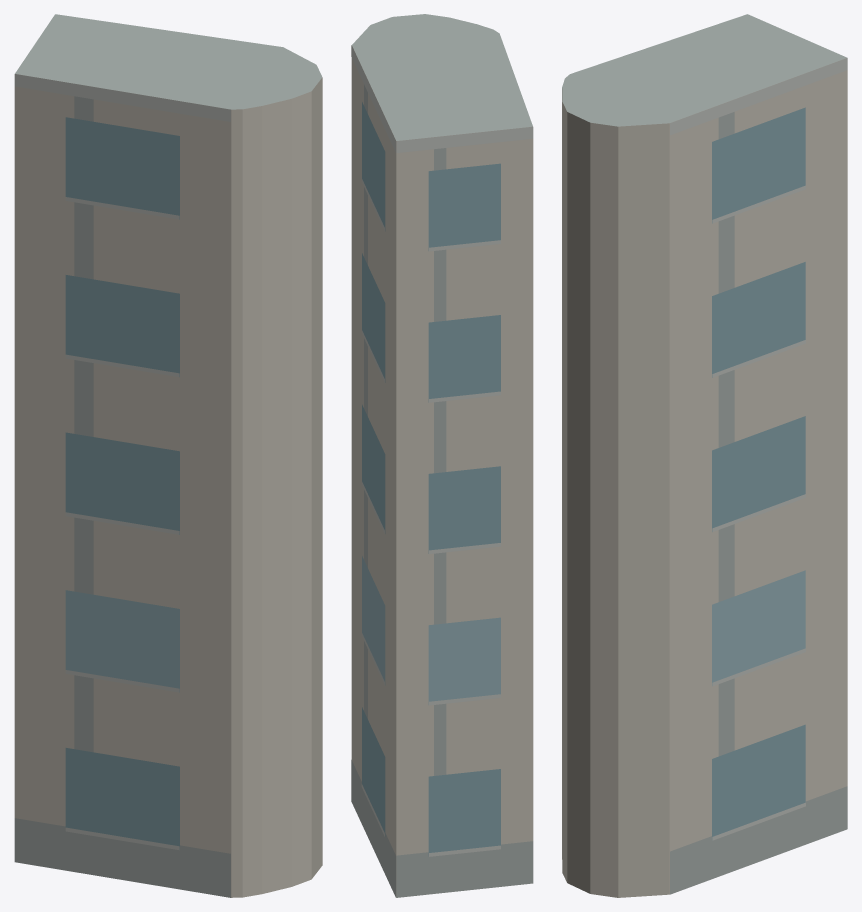
Rendered from survey-upis-32667138.glb.
3 renders of one model, left to right at view 1: azimuth 30°, elevation 25°; view 2: azimuth 150°, elevation 25°; view 3: azimuth 270°, elevation 25°, orthographic. The views are drawn at different scales.
Visible parts, largest first — view 1: survey-upis-32667138.tmp; view 2: survey-upis-32667138.tmp; view 3: survey-upis-32667138.tmp.
Boxes of the visible parts, <box> form: survey-upis-32667138.tmp: <box>14,14,322,897</box>; survey-upis-32667138.tmp: <box>351,14,533,897</box>; survey-upis-32667138.tmp: <box>562,14,847,897</box>.
Size of the model in its own units: 4.78 by 15.25 by 5.12.
